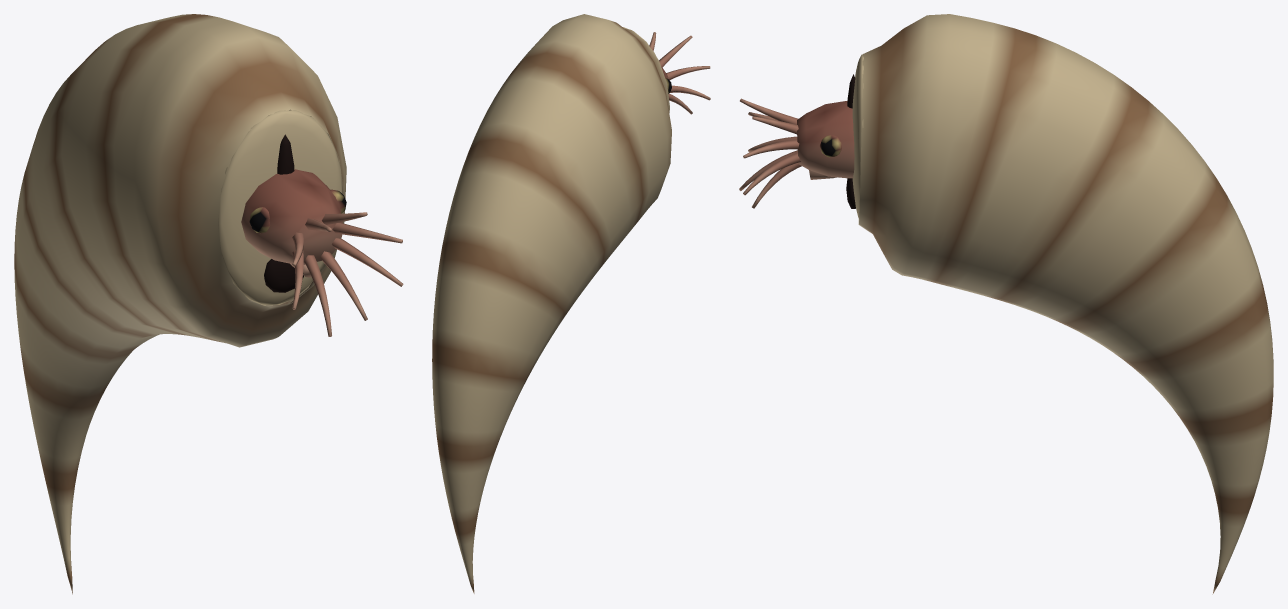
File: PhragmocerasVentricosum.fbx
3 views of the same model, side by side, from view 1: azimuth 30°, elevation 25°; view 2: azimuth 150°, elevation 25°; view 3: azimuth 270°, elevation 25° (orthographic). The views are drawn at different scales.
Visible parts, largest first — view 1: PhragmocerasVentricosum; view 2: PhragmocerasVentricosum; view 3: PhragmocerasVentricosum.
Boxes of the visible parts, bbox=[...] form: PhragmocerasVentricosum: bbox=[14, 14, 403, 594]; PhragmocerasVentricosum: bbox=[432, 14, 710, 593]; PhragmocerasVentricosum: bbox=[739, 14, 1273, 594].
Size of the model in its own units: 0.3169 by 1.05 by 0.8849.
